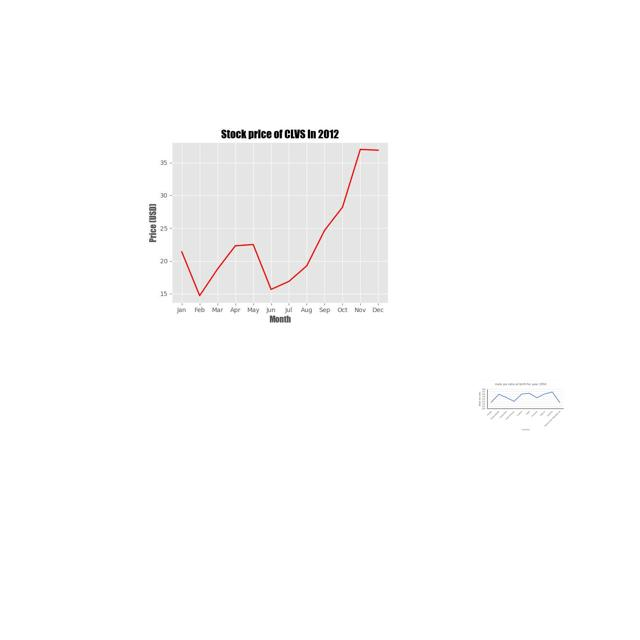Graph: (137, 117, 416, 326), (475, 380, 566, 433)
